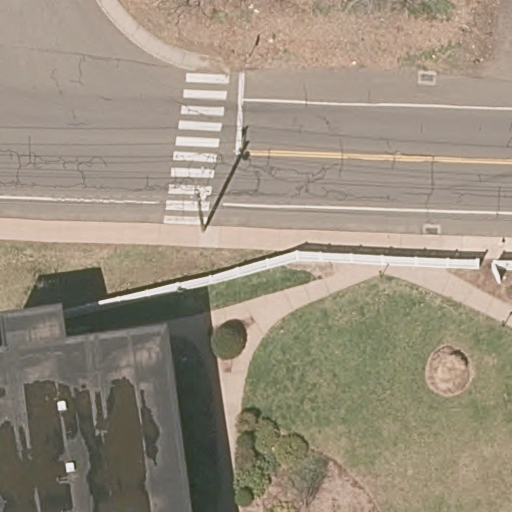DT: (188, 184, 209, 231)
